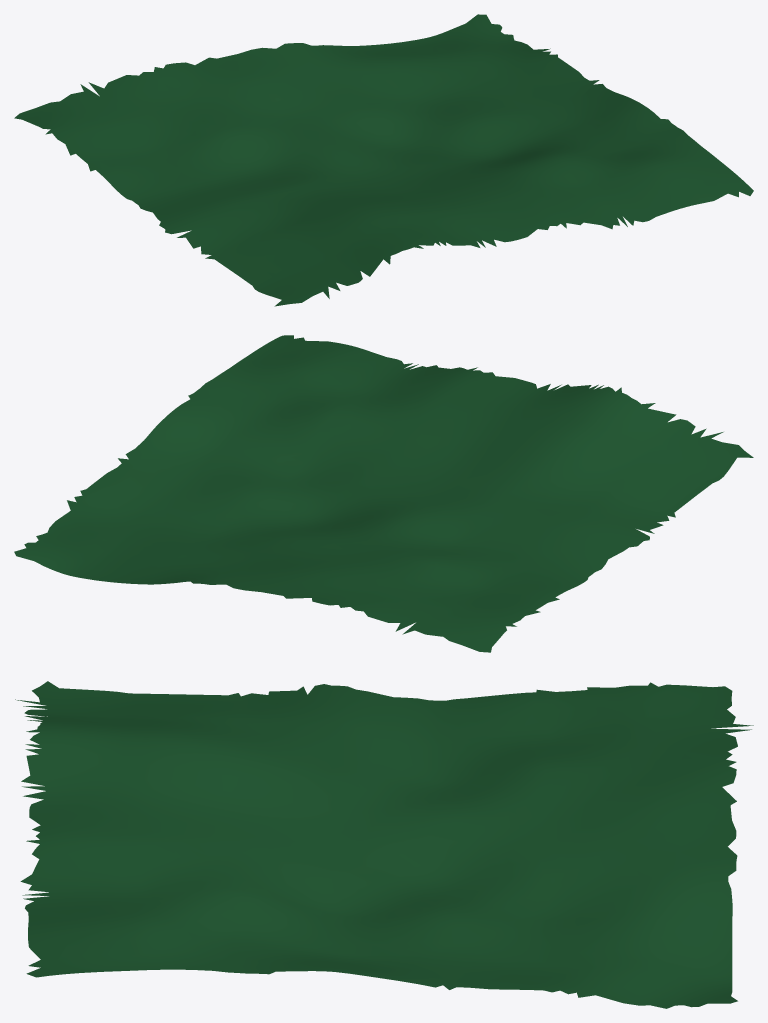
The model's file is payo_land_x3_ym3.glb.
The picture shows the model from 3 angles, top to bottom: view 1: azimuth 30°, elevation 25°; view 2: azimuth 150°, elevation 25°; view 3: azimuth 270°, elevation 25°; orthographic projection. The views are drawn at different scales.
Parts seen in each view (by area): view 1: payo_land_x3_ym3; view 2: payo_land_x3_ym3; view 3: payo_land_x3_ym3.
Boxes of the visible parts, <box> form: payo_land_x3_ym3: <box>14,14,753,306</box>; payo_land_x3_ym3: <box>14,335,753,652</box>; payo_land_x3_ym3: <box>15,681,753,1008</box>.
Size of the model in its own units: 265 by 29.36 by 271.
